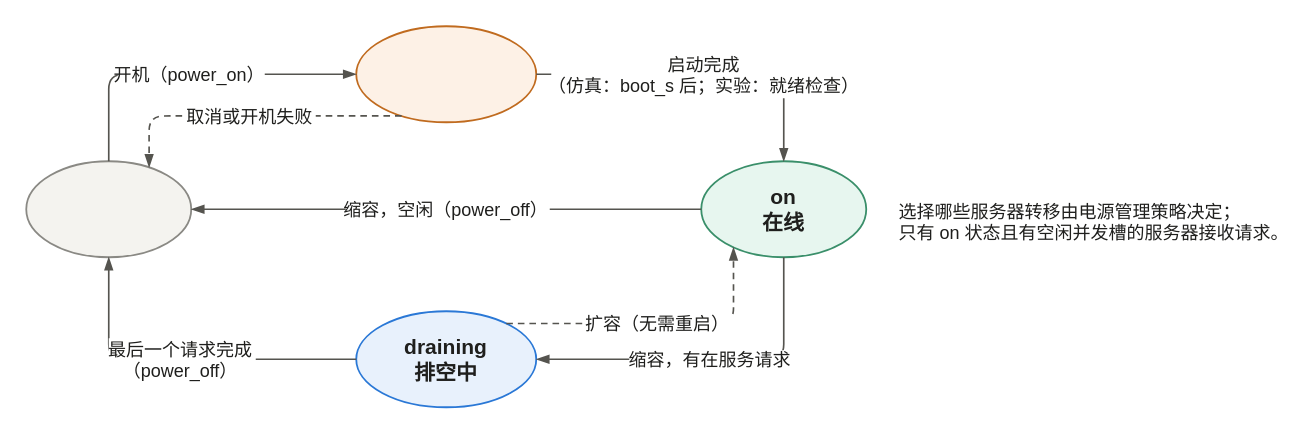
Some shapes in this 1314 by 435 pixel diagram are drawn without their labels. Here are the shapes that lost their labels. From the top down, the centre of each, then its label:
pixel 445 73: booting 启动中
pixel 108 208: off 关机
